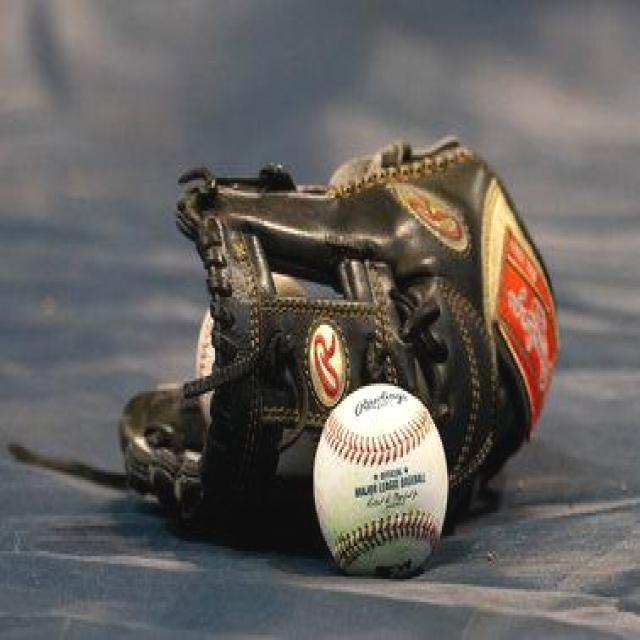ball: (313, 382, 451, 584)
